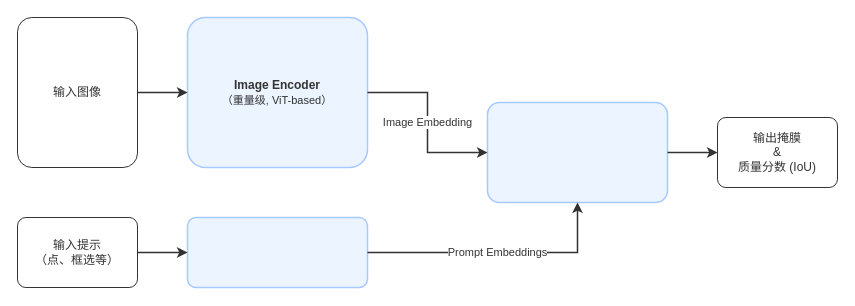
This 855x306 diagram has some shape labels left out. Here are the shapes that lost their labels. From the top down, the centre of each, then its label:
At (577,152): "Mask Decoder （轻量级, 实时）".
At (277,252): "Prompt Encoder （轻量级）".
